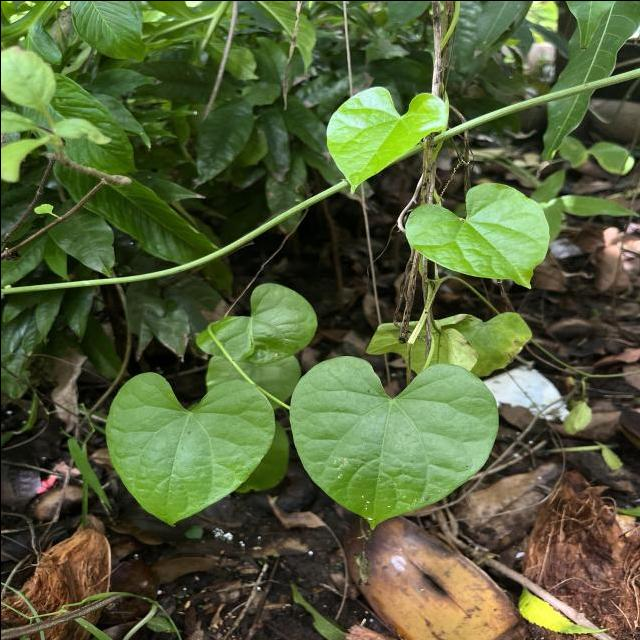Tinospora cordifolia: (286, 350, 500, 532), (100, 368, 278, 528), (402, 179, 552, 292), (322, 82, 450, 195)
